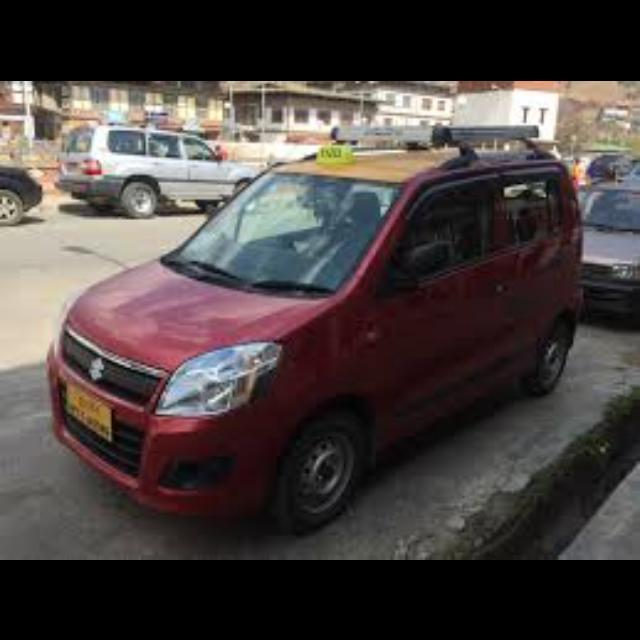vehicles: (25, 125, 618, 538), (54, 120, 258, 218), (576, 182, 638, 322), (0, 159, 42, 223)
